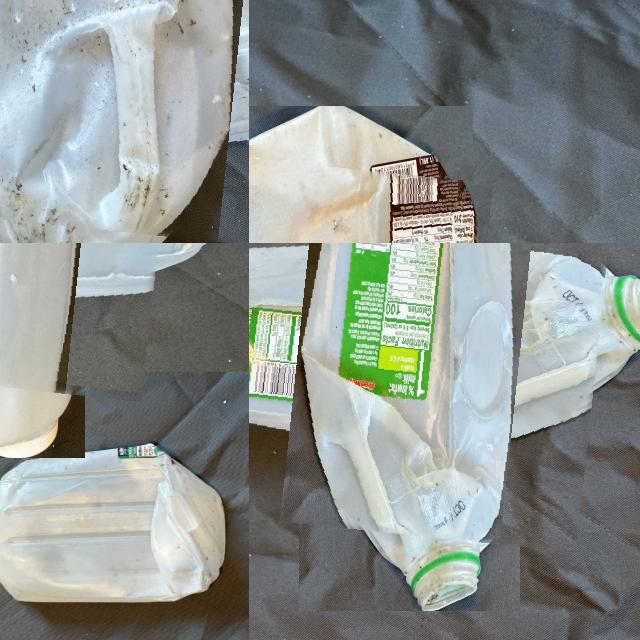milk-jug: (249, 243, 605, 543), (0, 0, 249, 237), (0, 432, 236, 610), (249, 158, 545, 243), (0, 243, 170, 391)
